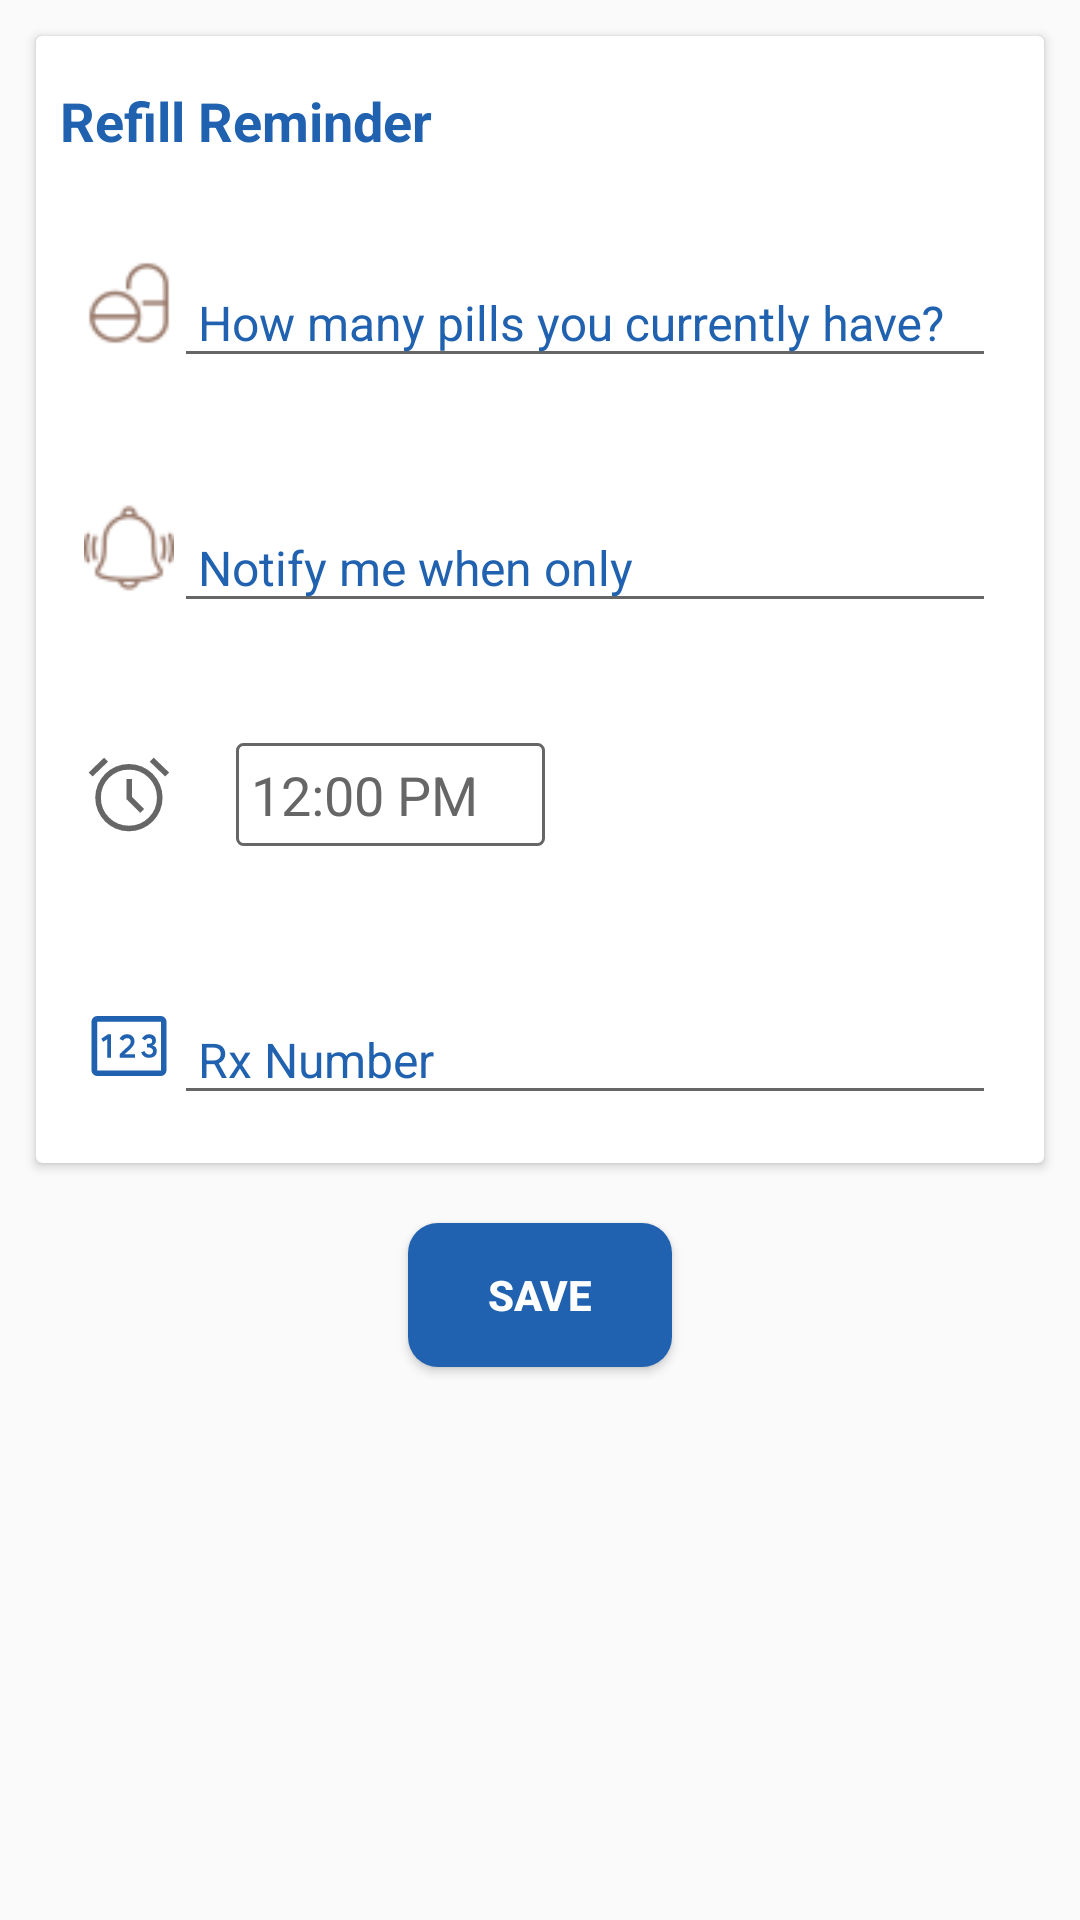

Named icons in this screenshot (1080w x 1920h) and their bounding boxes, (x1, y1, x2, y2):
alarm: (89, 758, 169, 832)
medico: (89, 263, 169, 343)
